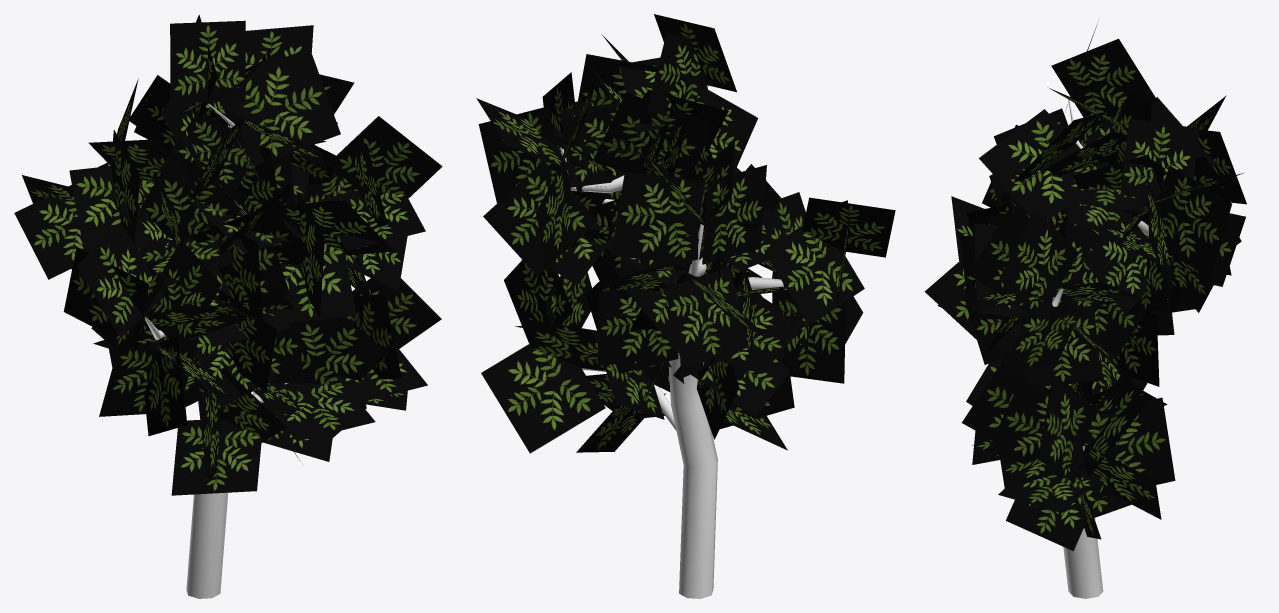
Rendered from Tree7.fbx.
3 views of the same model, side by side, from view 1: azimuth 30°, elevation 25°; view 2: azimuth 150°, elevation 25°; view 3: azimuth 270°, elevation 25° (orthographic).
Visible parts, largest first — view 1: Tree7; view 2: Tree7; view 3: Tree7.
Boxes of the visible parts, box(x1,y1,x2,y2) form: Tree7: box(14, 14, 442, 598); Tree7: box(476, 14, 895, 598); Tree7: box(924, 22, 1246, 598).
Size of the model in its own units: 545 by 787 by 429.
